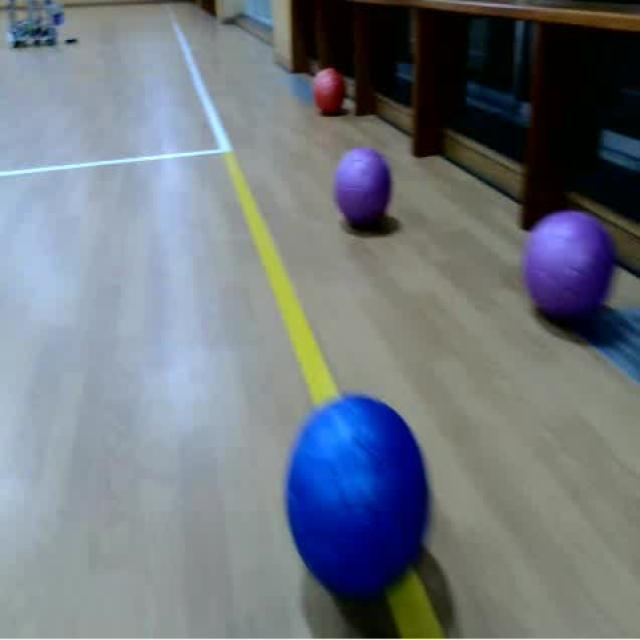blue_ball: (282, 394, 434, 599)
purple_ball: (526, 208, 619, 324), (332, 147, 393, 230)
red_ball: (312, 67, 348, 116)
